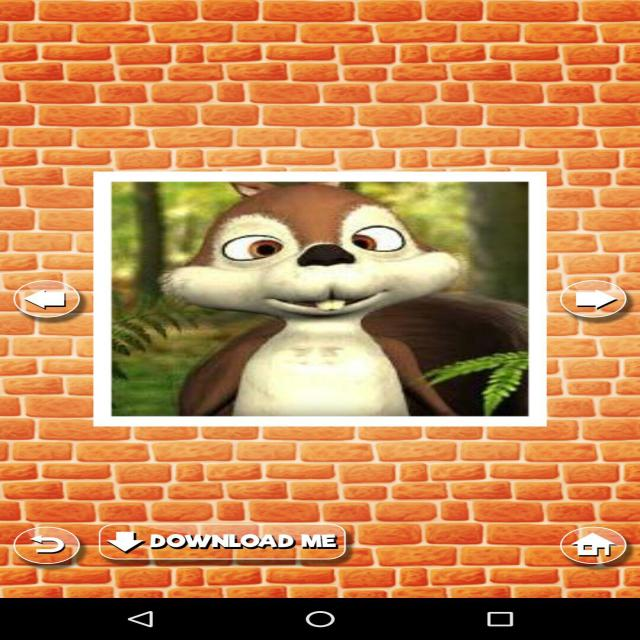button: (100, 518, 376, 567), (5, 525, 105, 575), (553, 519, 640, 575), (552, 277, 640, 329), (15, 262, 92, 319)
image: (92, 161, 558, 436)
